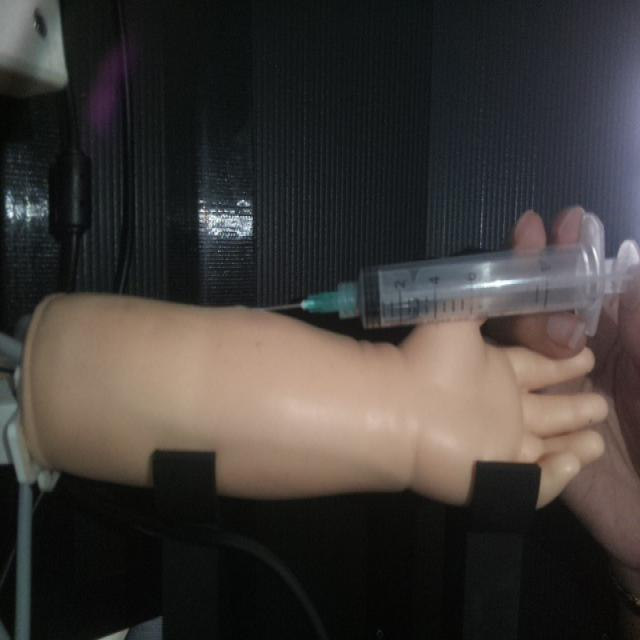Outside: (255, 211, 638, 335)
